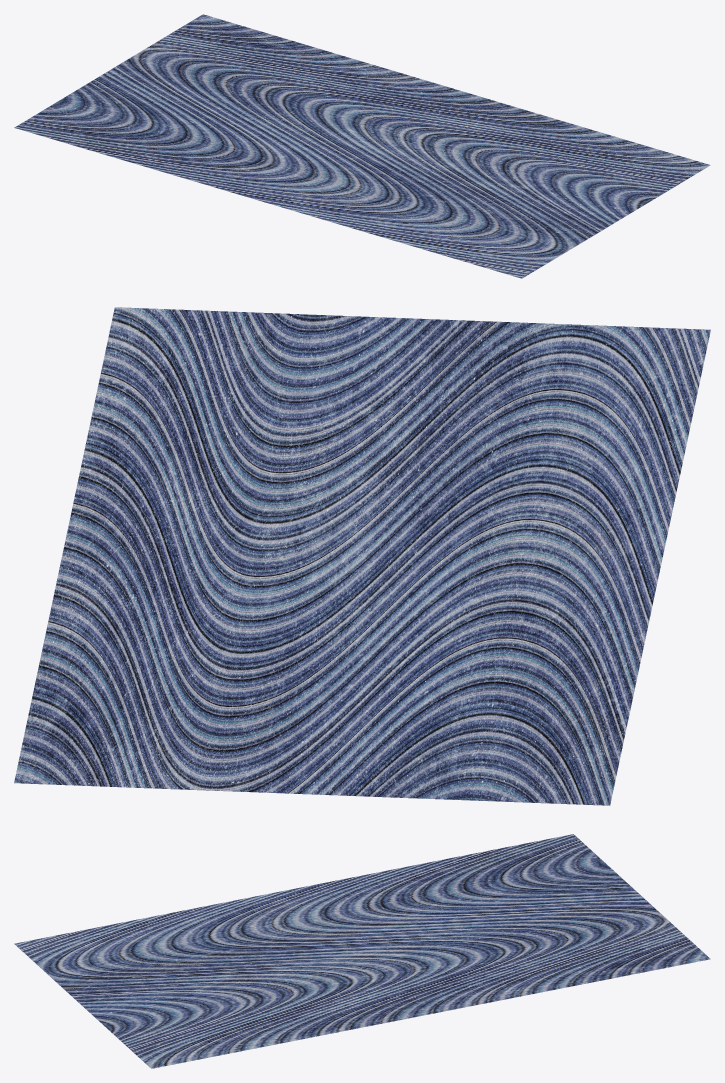
Rendered from Rug_Simple.glb.
The picture shows the model from 3 angles, top to bottom: view 1: azimuth 30°, elevation 25°; view 2: azimuth 150°, elevation 25°; view 3: azimuth 270°, elevation 25°; orthographic projection. The views are drawn at different scales.
Visible parts, largest first — view 1: rug_simple.002; view 2: rug_simple.002; view 3: rug_simple.002.
Part boxes in pixels (x1,y1,x2,y2): rug_simple.002: (14, 14, 710, 278); rug_simple.002: (14, 307, 710, 805); rug_simple.002: (14, 834, 710, 1068).
Size of the model in its own units: 11.35 by 0 by 14.23.
Materials: 1 (1 with a texture image).
